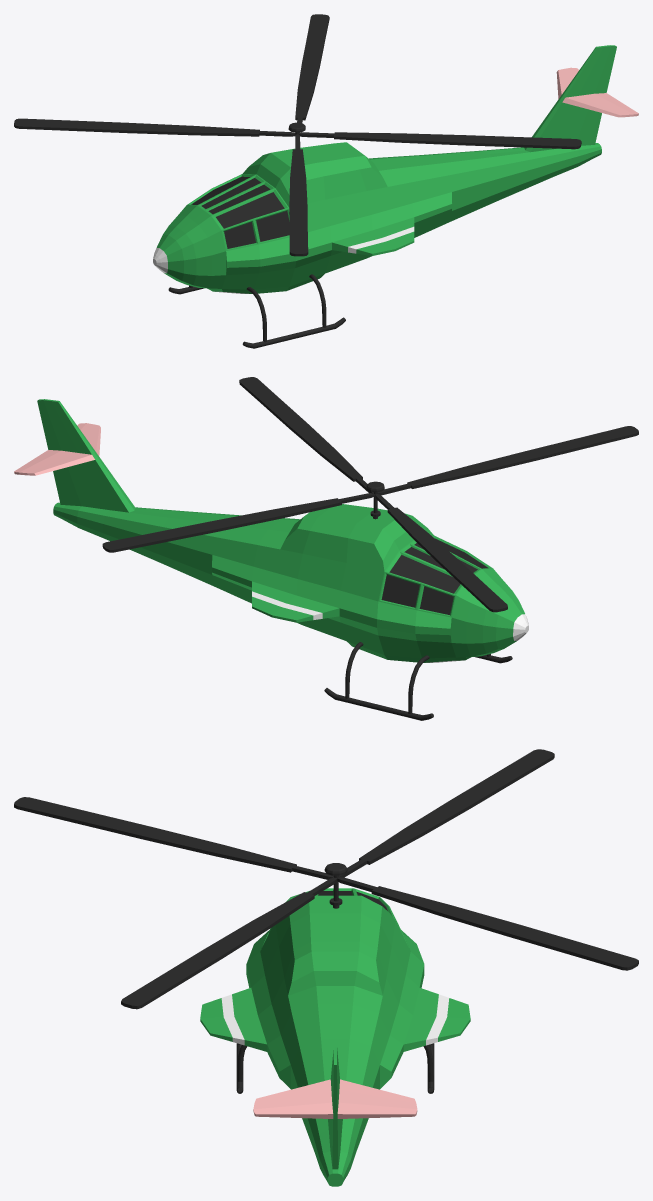
The model's file is Helicopter_A1.fbx.
3 renders of one model, top to bottom at view 1: azimuth 30°, elevation 25°; view 2: azimuth 150°, elevation 25°; view 3: azimuth 270°, elevation 25°, orthographic. The views are drawn at different scales.
Visible parts, largest first — view 1: Helicopter_A1, Helicopter_A1 Fan; view 2: Helicopter_A1, Helicopter_A1 Fan; view 3: Helicopter_A1, Helicopter_A1 Fan.
Boxes of the visible parts, x1,y1,x2,y2 form: Helicopter_A1: [153, 45, 638, 348]; Helicopter_A1 Fan: [14, 14, 581, 256]; Helicopter_A1: [14, 399, 528, 720]; Helicopter_A1 Fan: [102, 377, 638, 612]; Helicopter_A1: [200, 888, 470, 1186]; Helicopter_A1 Fan: [14, 749, 638, 1009].
Bounding box in the file's own units: 6.5 × 2.16 × 5.23.
